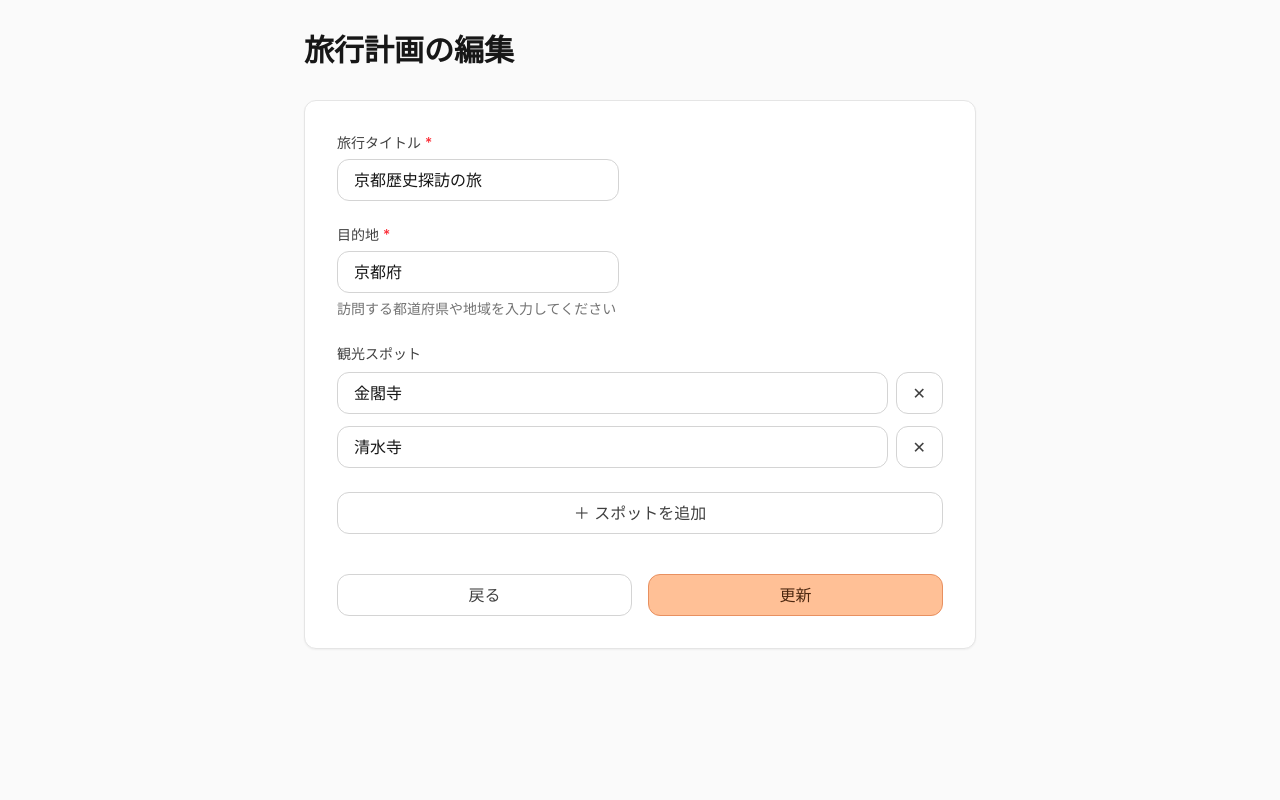
Test case: TravelEditPage › エラー状態 › 更新失敗時はエラーダイアログが表示される
The width and height of the screenshot is (1280, 800).
expect the field showing "京都歴史探訪の旅" is shown: met, box [337,159,619,201]
What coordinates should you click on to do the following:
click the button "更新"
I would click on:
 (796, 595)
Its box is [648,574,943,616].
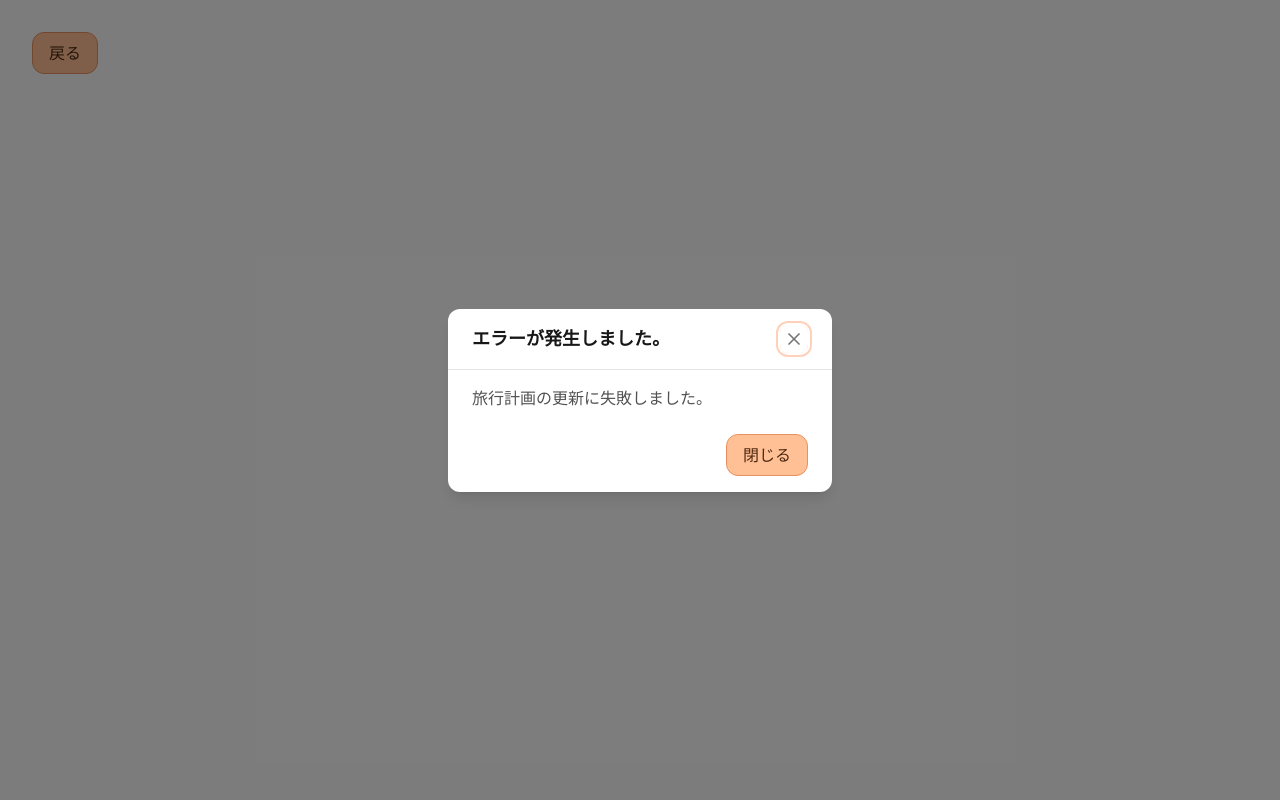
expect the text "旅行計画の更新に失敗しました。" is shown: met, box [472,388,712,408]
